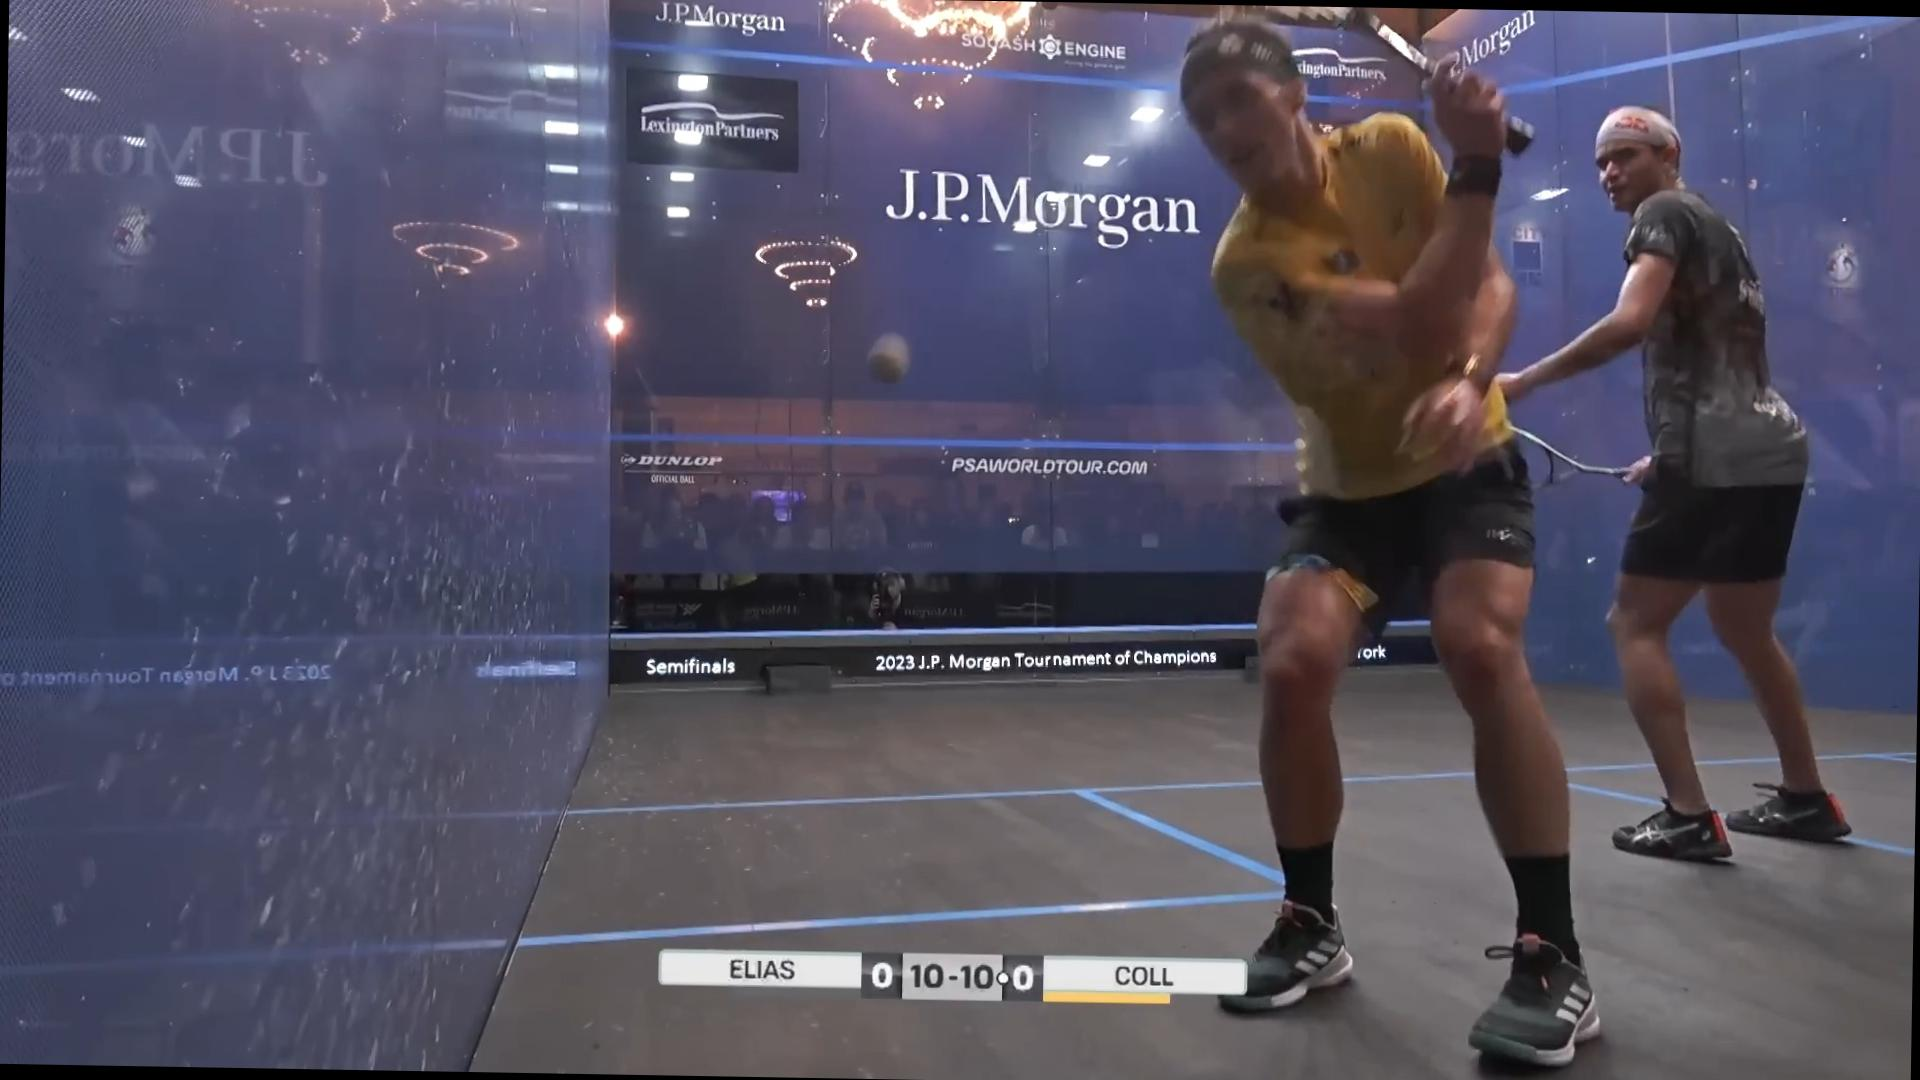Racket: (1495, 411, 1618, 497)
